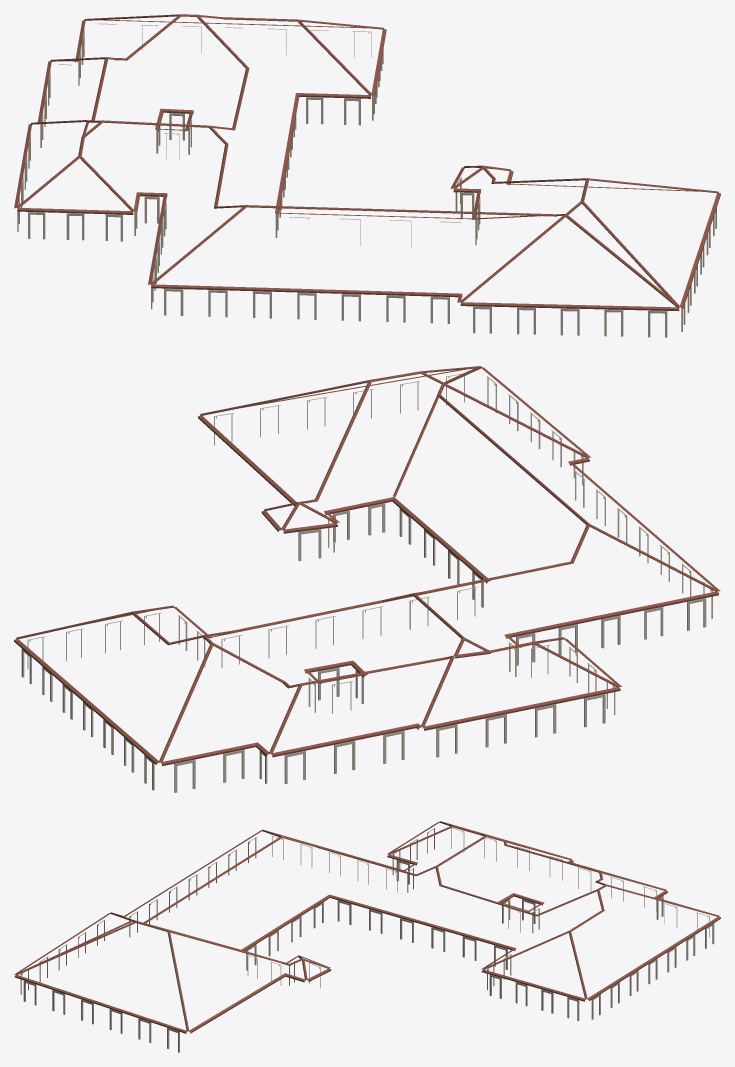
3 renders of one model, top to bottom at view 1: azimuth 30°, elevation 25°; view 2: azimuth 150°, elevation 25°; view 3: azimuth 270°, elevation 25°, orthographic. The views are drawn at different scales.
Parts seen in each view (by area): view 1: detail; view 2: detail; view 3: detail.
Boxes of the visible parts, x1=… form: detail: x1=14, y1=14, x2=720, y2=337; detail: x1=14, y1=366, x2=720, y2=792; detail: x1=14, y1=821, x2=720, y2=1052.
Size of the model in its own units: 55.46 by 8.53 by 78.49.
